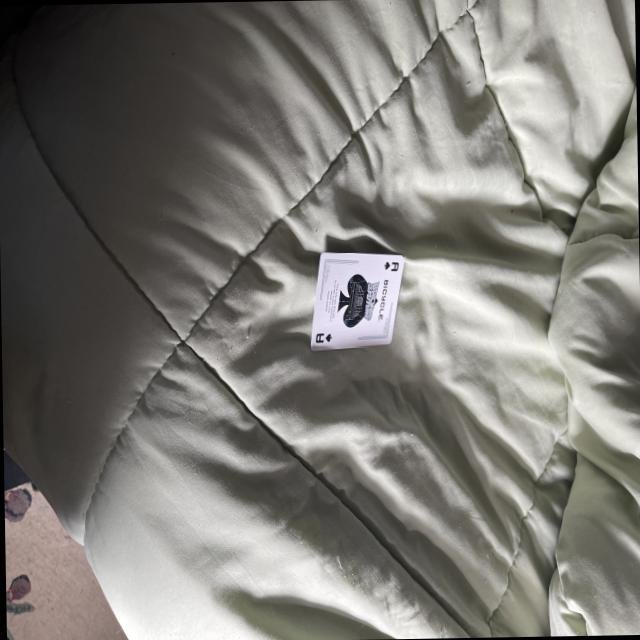Ace of spades: (311, 254, 401, 347)
